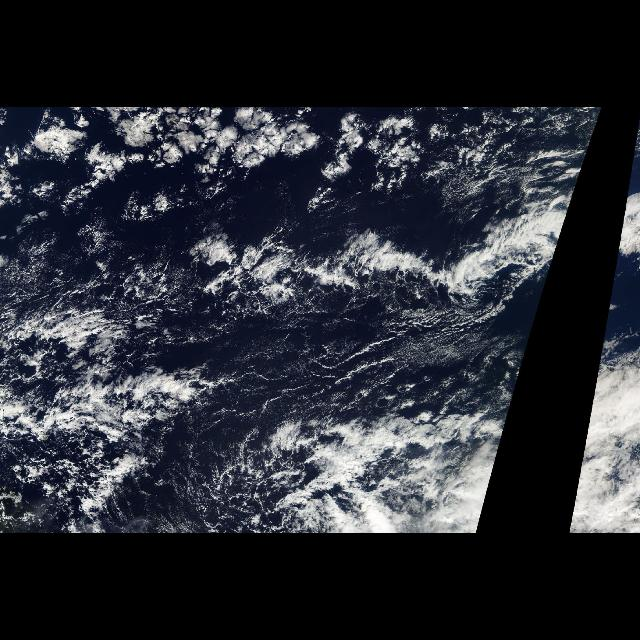Fish: (64, 185, 576, 359), (601, 186, 639, 348)
Flower: (16, 110, 344, 220)
Sugar: (376, 329, 512, 381), (328, 384, 374, 394)
